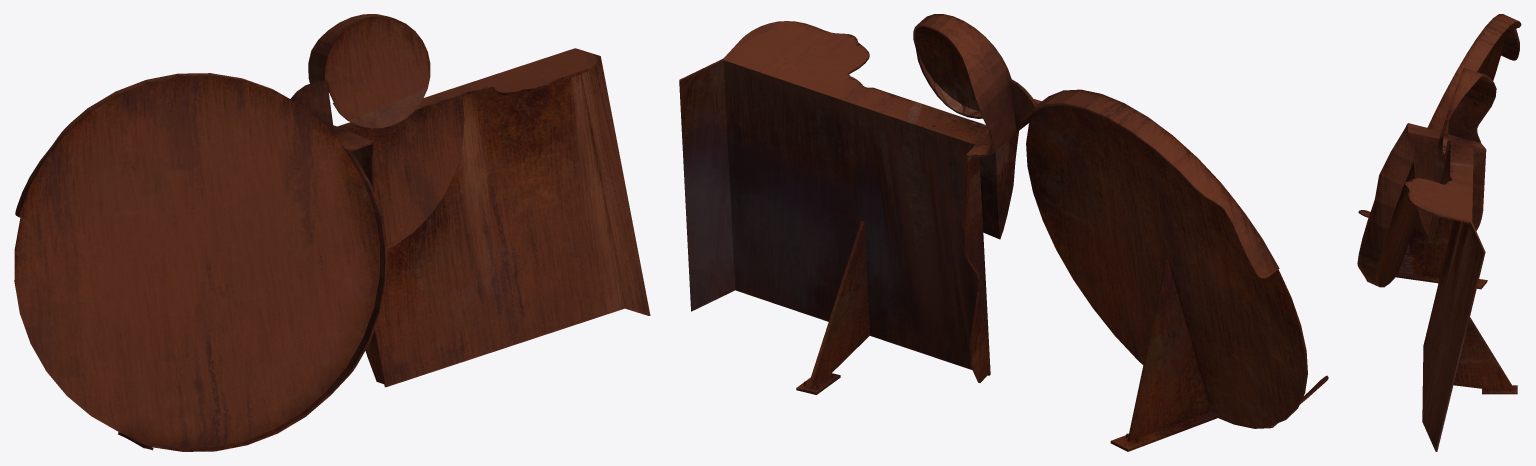
File: ProfileCantoIV-A.glb
3 renders of one model, left to right at view 1: azimuth 30°, elevation 25°; view 2: azimuth 150°, elevation 25°; view 3: azimuth 270°, elevation 25°, orthographic. The views are drawn at different scales.
Parts seen in each view (by area): view 1: ProfileCanto_IVA; view 2: ProfileCanto_IVA; view 3: ProfileCanto_IVA.
Part boxes in pixels (box(x1,y1,x2,y2)): ProfileCanto_IVA: box(14, 14, 650, 451); ProfileCanto_IVA: box(679, 14, 1328, 451); ProfileCanto_IVA: box(1357, 14, 1521, 451).
Size of the model in its own units: 5.79 by 3.24 by 1.72.
Materials: 1 (1 with a texture image).
